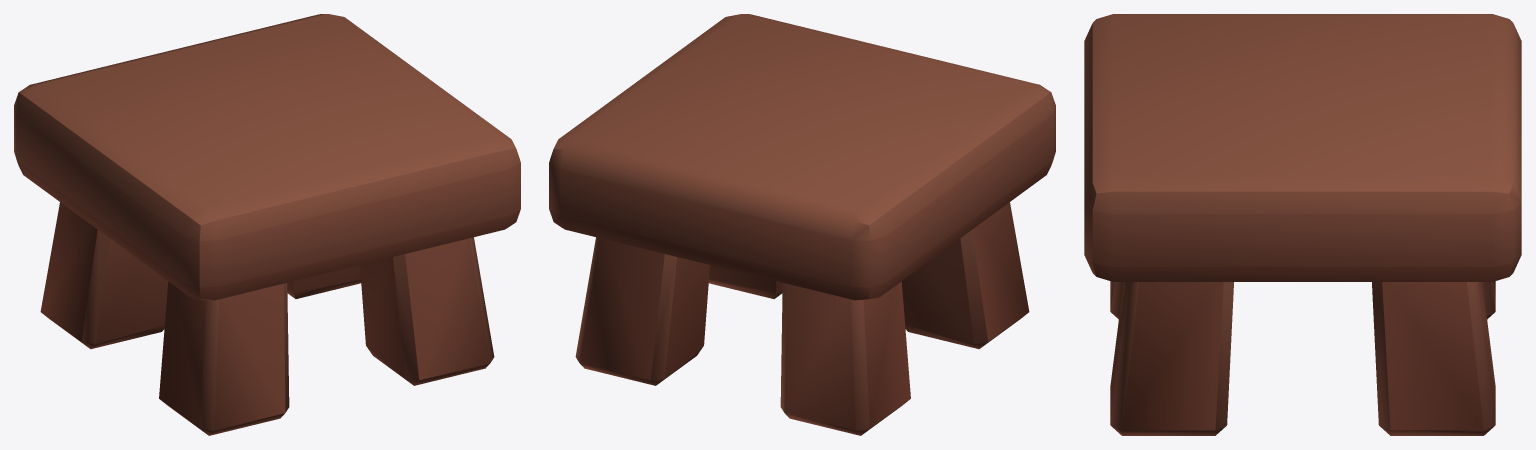
File: K_chair_stool_wood.glb
3 views of the same model, side by side, from view 1: azimuth 30°, elevation 25°; view 2: azimuth 150°, elevation 25°; view 3: azimuth 270°, elevation 25° (orthographic). The views are drawn at different scales.
Visible parts, largest first — view 1: chair_stool_wood; view 2: chair_stool_wood; view 3: chair_stool_wood.
Boxes of the visible parts, x1=… form: chair_stool_wood: x1=14, y1=14, x2=520, y2=435; chair_stool_wood: x1=549, y1=14, x2=1055, y2=435; chair_stool_wood: x1=1084, y1=14, x2=1521, y2=435.
Bounding box in the file's own units: 0.75 × 0.5 × 0.75.
